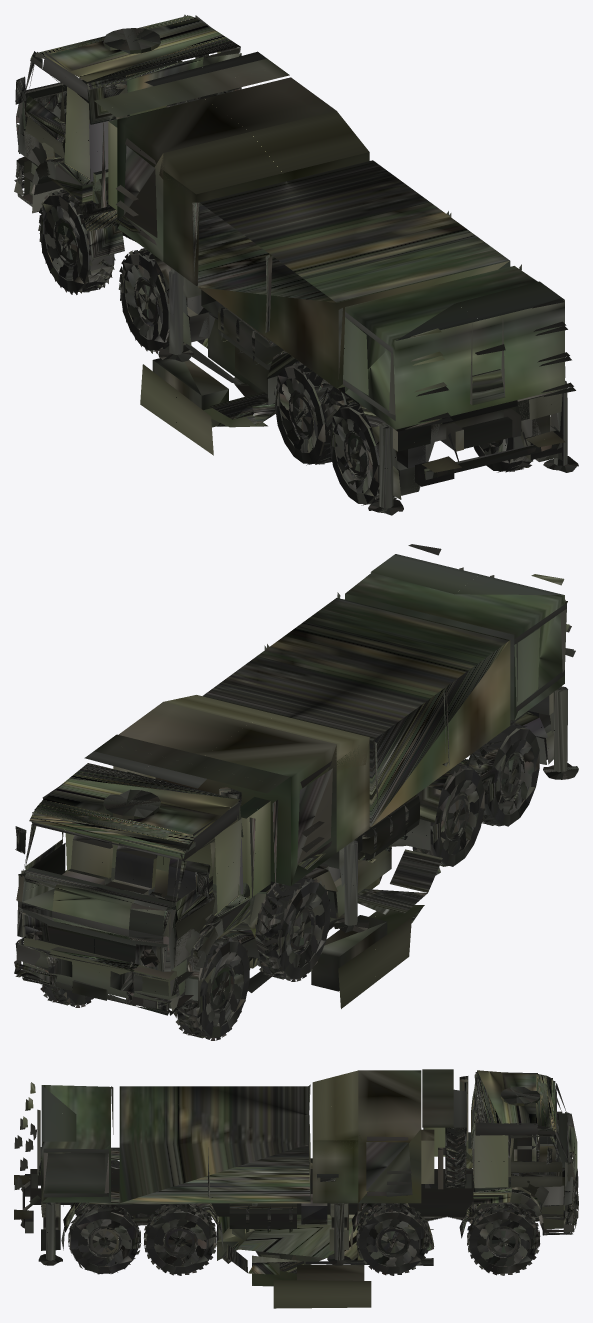
Rendered from pantsir_lo.glb.
3 renders of one model, top to bottom at view 1: azimuth 30°, elevation 25°; view 2: azimuth 150°, elevation 25°; view 3: azimuth 270°, elevation 25°, orthographic. The views are drawn at different scales.
Visible parts, largest first — view 1: body|PS_paint, cradle|PS_paint, turret|PS_paint; view 2: body|PS_paint, cradle|PS_paint, turret|PS_paint; view 3: body|PS_paint, cradle|PS_paint, turret|PS_paint.
Boxes of the visible parts, x1,y1,x2,y2 form: body|PS_paint: (14, 14, 578, 515); cradle|PS_paint: (140, 343, 267, 455); turret|PS_paint: (197, 319, 275, 425); body|PS_paint: (14, 544, 578, 1040); cradle|PS_paint: (248, 905, 424, 1008); turret|PS_paint: (243, 838, 442, 968); body|PS_paint: (14, 1069, 578, 1275); cradle|PS_paint: (252, 1223, 433, 1308); turret|PS_paint: (217, 1203, 434, 1274).
Bounding box in the file's own units: 3.1 × 3.79 × 10.75.
4 materials, 4 textured.
